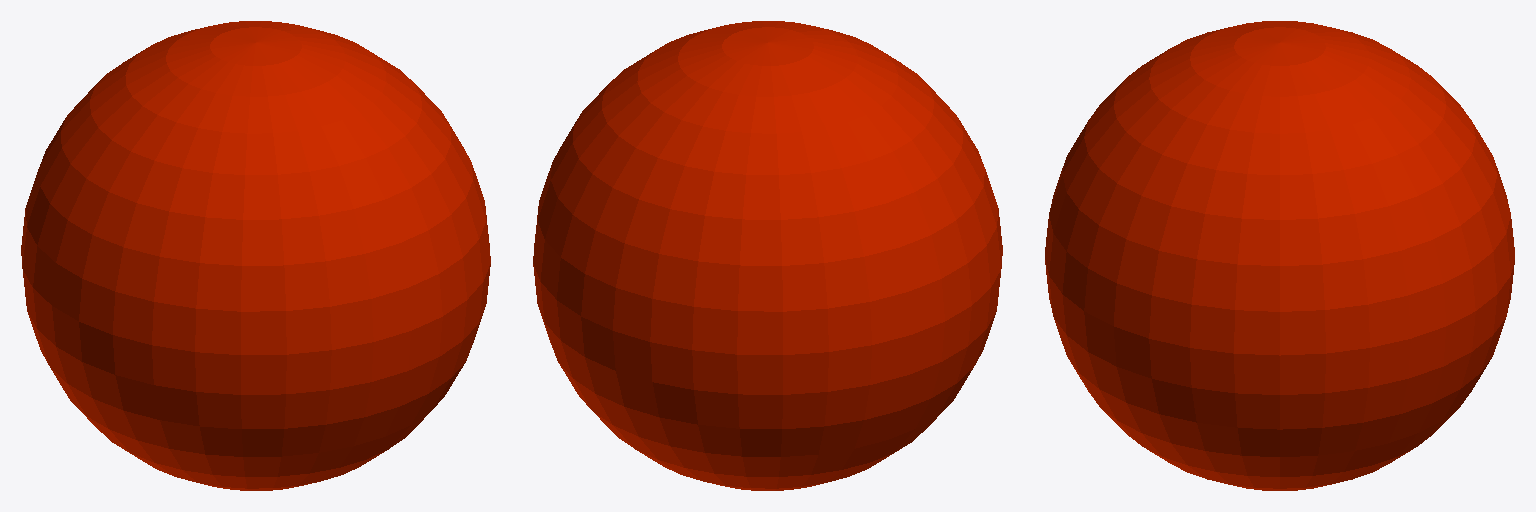
File: sphere_smooth.obj
3 views of the same model, side by side, from view 1: azimuth 30°, elevation 25°; view 2: azimuth 150°, elevation 25°; view 3: azimuth 270°, elevation 25° (orthographic).
Parts seen in each view (by area): view 1: Sphere; view 2: Sphere; view 3: Sphere.
Boxes of the visible parts, <box> form: Sphere: <box>21,21,490,490</box>; Sphere: <box>533,21,1002,490</box>; Sphere: <box>1045,21,1514,490</box>.
Size of the model in its own units: 2 by 2 by 2.